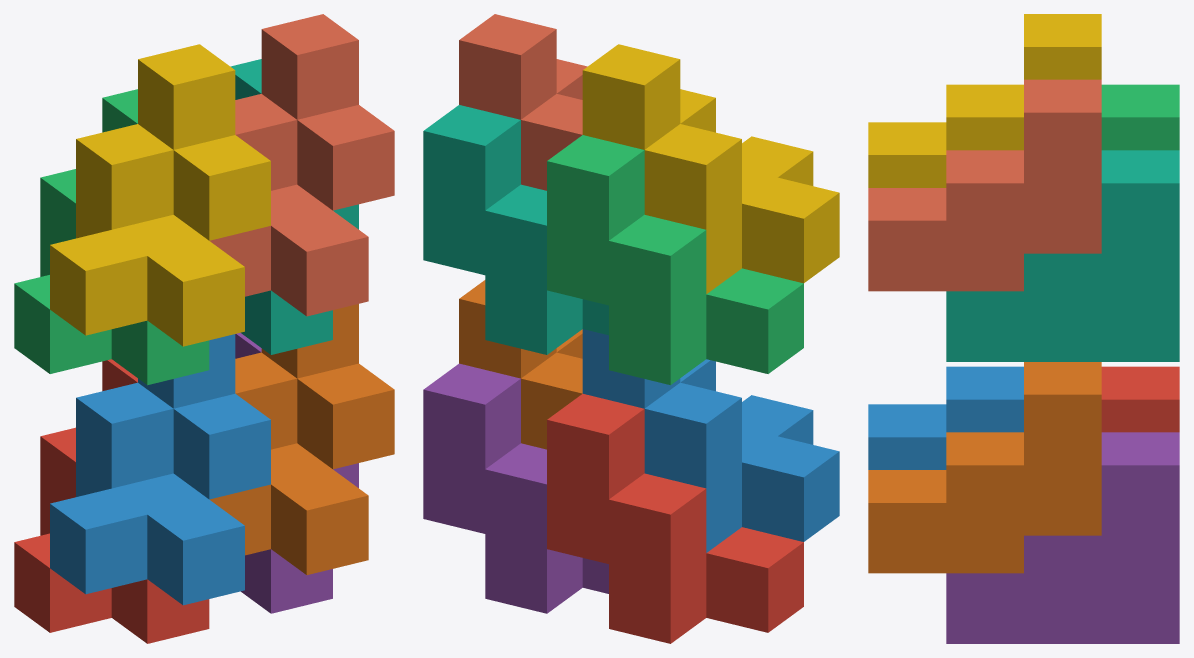
The model's file is tiling.obj.
3 renders of one model, left to right at view 1: azimuth 30°, elevation 25°; view 2: azimuth 150°, elevation 25°; view 3: azimuth 270°, elevation 25°, orthographic. The views are drawn at different scales.
Visible parts, largest first — view 1: copy_1_domain_4, copy_1_domain_2, copy_1_domain_8, copy_1_domain_6, copy_1_domain_3, copy_1_domain_1, copy_1_domain_7, copy_1_domain_5; view 2: copy_1_domain_1, copy_1_domain_3, copy_1_domain_4, copy_1_domain_2, copy_1_domain_5, copy_1_domain_7, copy_1_domain_8, copy_1_domain_6; view 3: copy_1_domain_8, copy_1_domain_6, copy_1_domain_5, copy_1_domain_7, copy_1_domain_4, copy_1_domain_2, copy_1_domain_1, copy_1_domain_3.
Part boxes in pixels (<box>): copy_1_domain_4: <box>50,44,270,346</box>; copy_1_domain_2: <box>50,334,270,605</box>; copy_1_domain_8: <box>209,14,394,316</box>; copy_1_domain_6: <box>209,304,394,574</box>; copy_1_domain_3: <box>14,89,209,385</box>; copy_1_domain_1: <box>14,359,209,643</box>; copy_1_domain_7: <box>230,59,358,354</box>; copy_1_domain_5: <box>235,332,358,613</box>; copy_1_domain_1: <box>547,394,803,643</box>; copy_1_domain_3: <box>547,135,803,385</box>; copy_1_domain_4: <box>582,44,839,293</box>; copy_1_domain_2: <box>582,329,839,552</box>; copy_1_domain_5: <box>423,363,608,613</box>; copy_1_domain_7: <box>423,105,608,354</box>; copy_1_domain_8: <box>459,14,587,190</box>; copy_1_domain_6: <box>459,280,582,449</box>; copy_1_domain_8: <box>868,79,1101,291</box>; copy_1_domain_6: <box>868,362,1101,573</box>; copy_1_domain_5: <box>946,432,1179,643</box>; copy_1_domain_7: <box>946,150,1179,361</box>; copy_1_domain_4: <box>868,14,1101,187</box>; copy_1_domain_2: <box>868,366,1023,469</box>; copy_1_domain_1: <box>1101,366,1179,432</box>; copy_1_domain_3: <box>1101,84,1179,150</box>.
Bounding box in the file's own units: 5 × 8 × 4.
